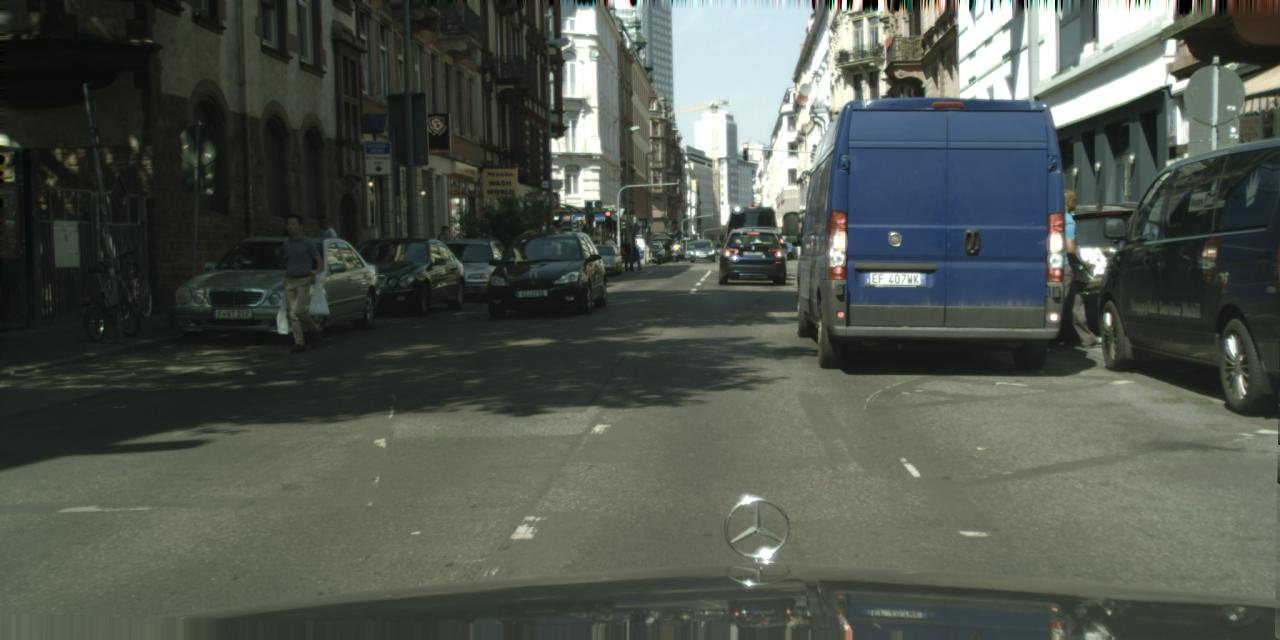ped: (1036, 190, 1098, 343), (272, 214, 327, 349), (313, 216, 343, 292), (434, 225, 454, 278), (621, 238, 635, 272), (628, 242, 640, 270), (606, 236, 615, 258), (671, 240, 680, 260)
